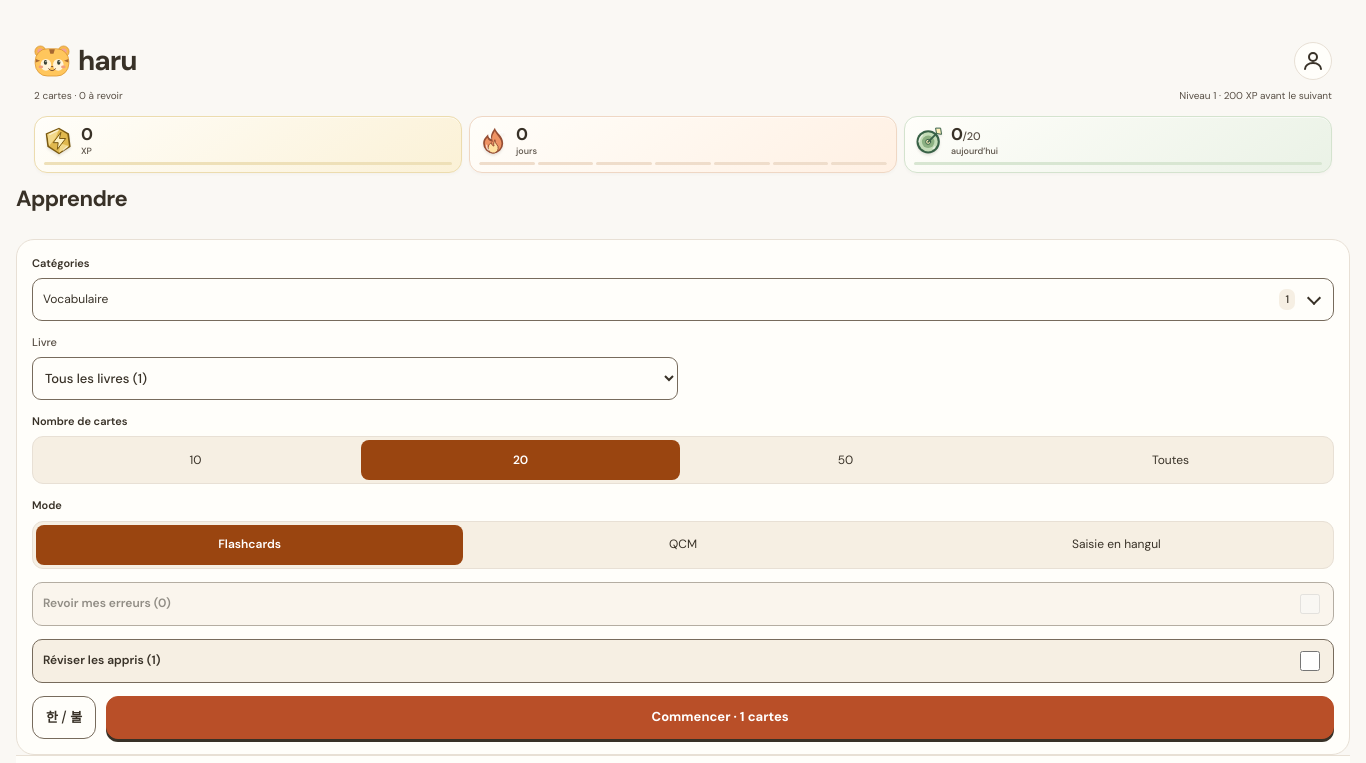
Scenario: mastered words › announces the words a series has just taught, from the row the database returns
The width and height of the screenshot is (1366, 763).
Click the button "Commencer · 1 cartes" at (720,717), box [106,696,1334,739]
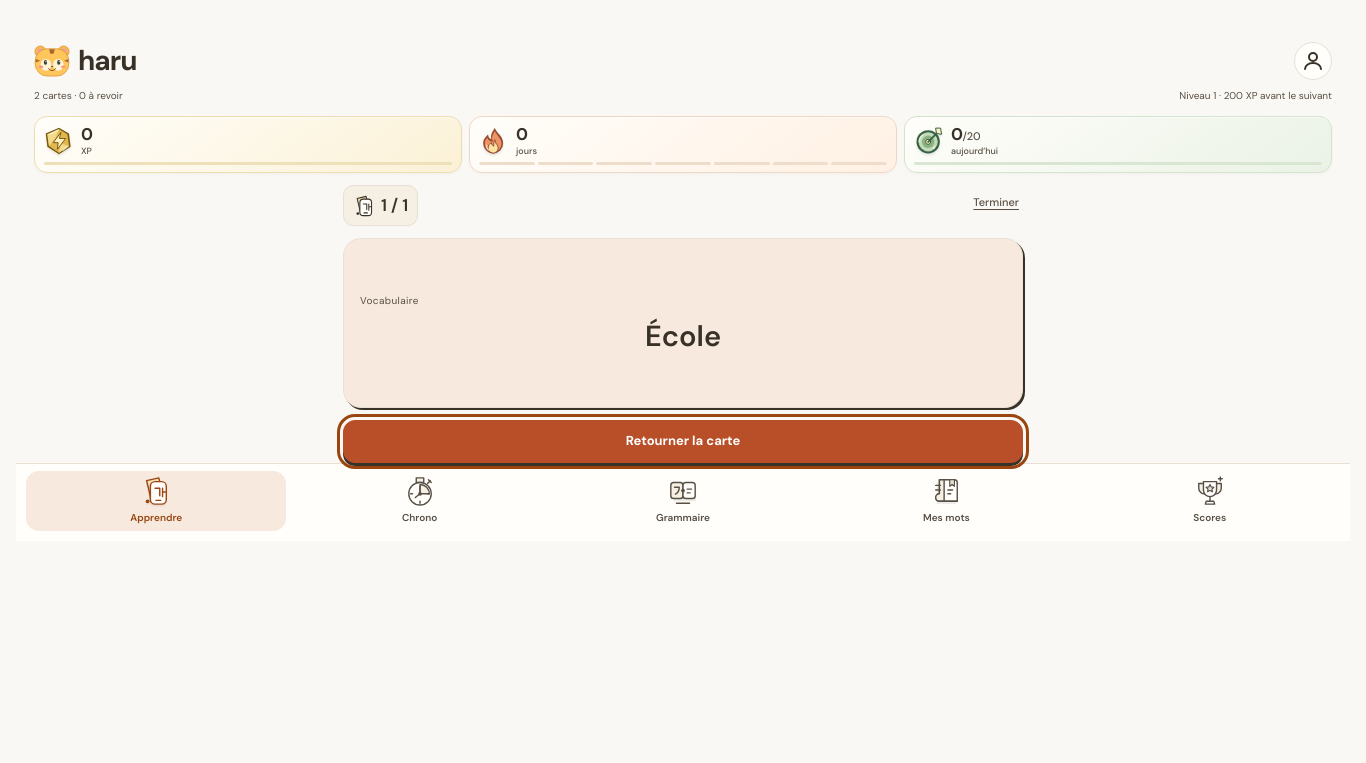
Press Space
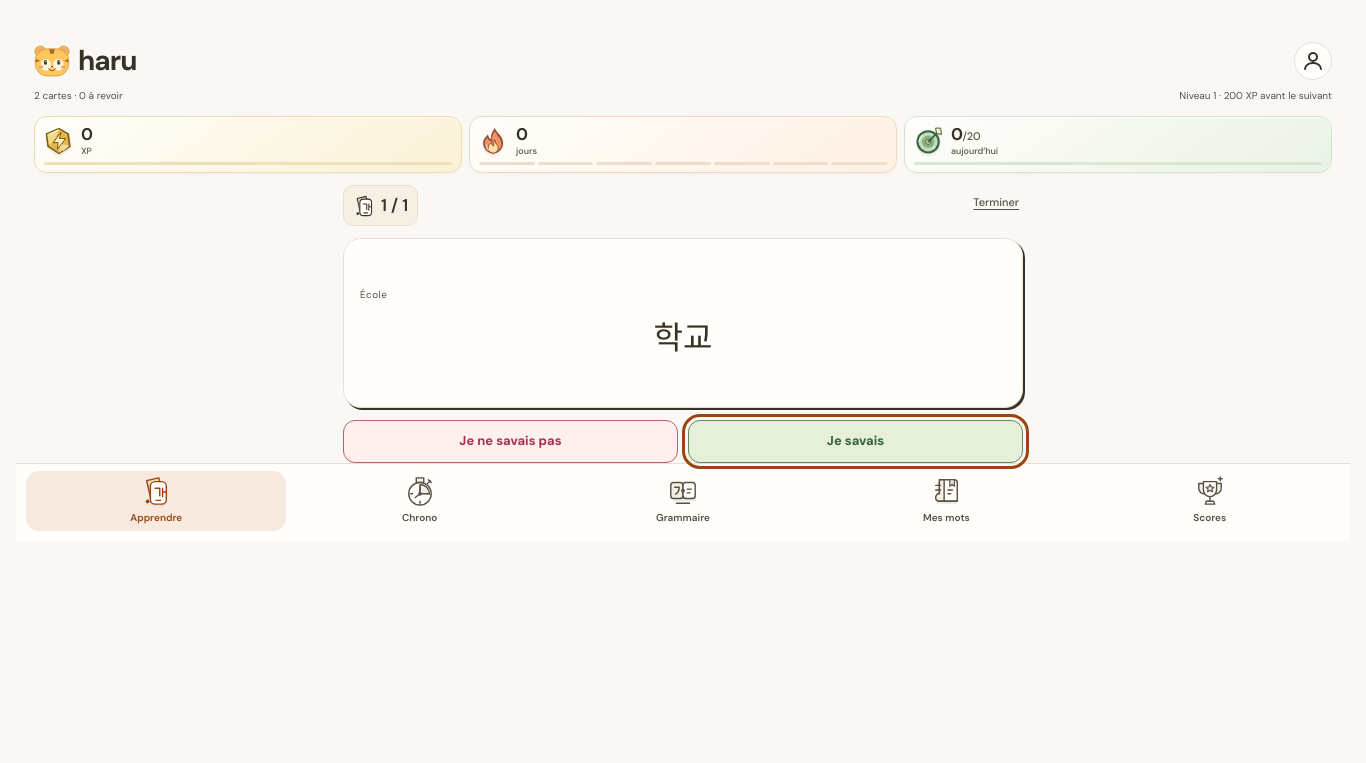
Press 2
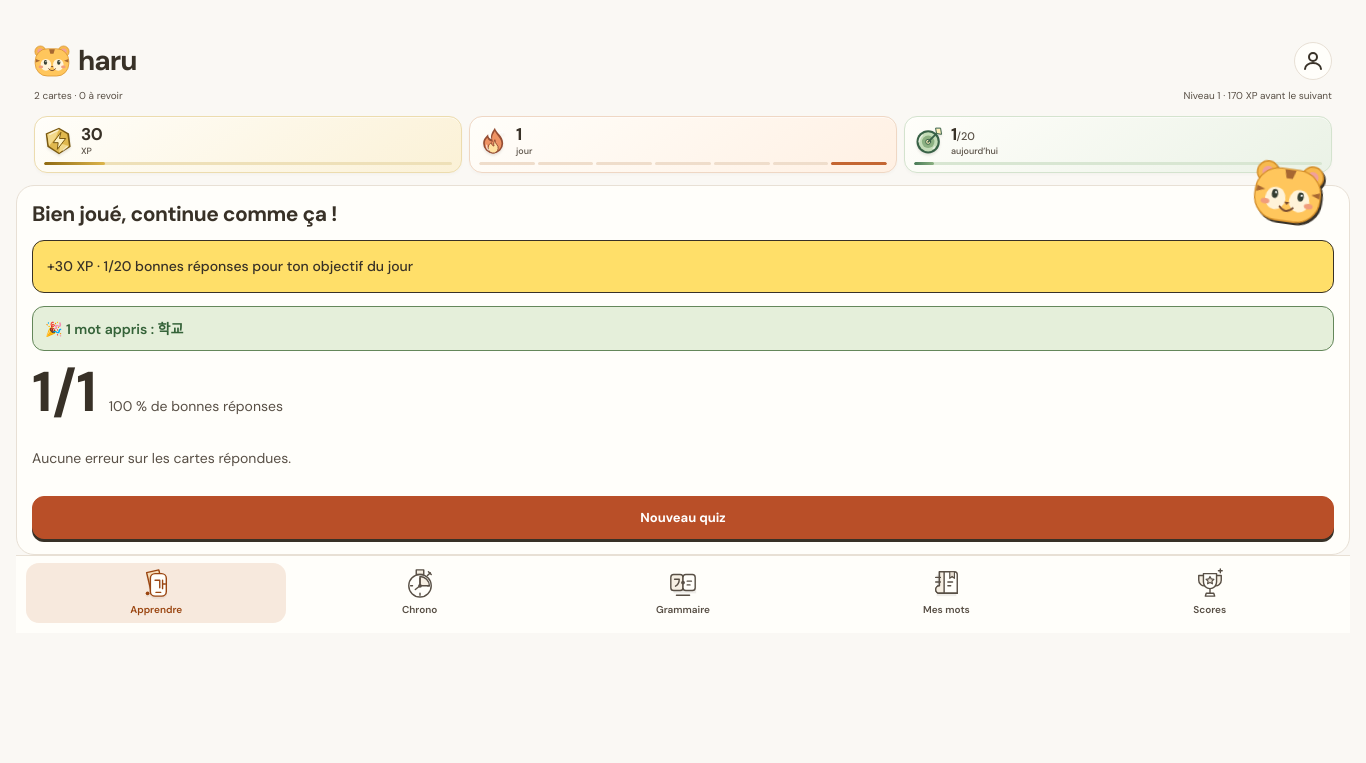
Check: the text "🎉 1 mot appris : 학교" is shown, box [32,306,1334,351]
